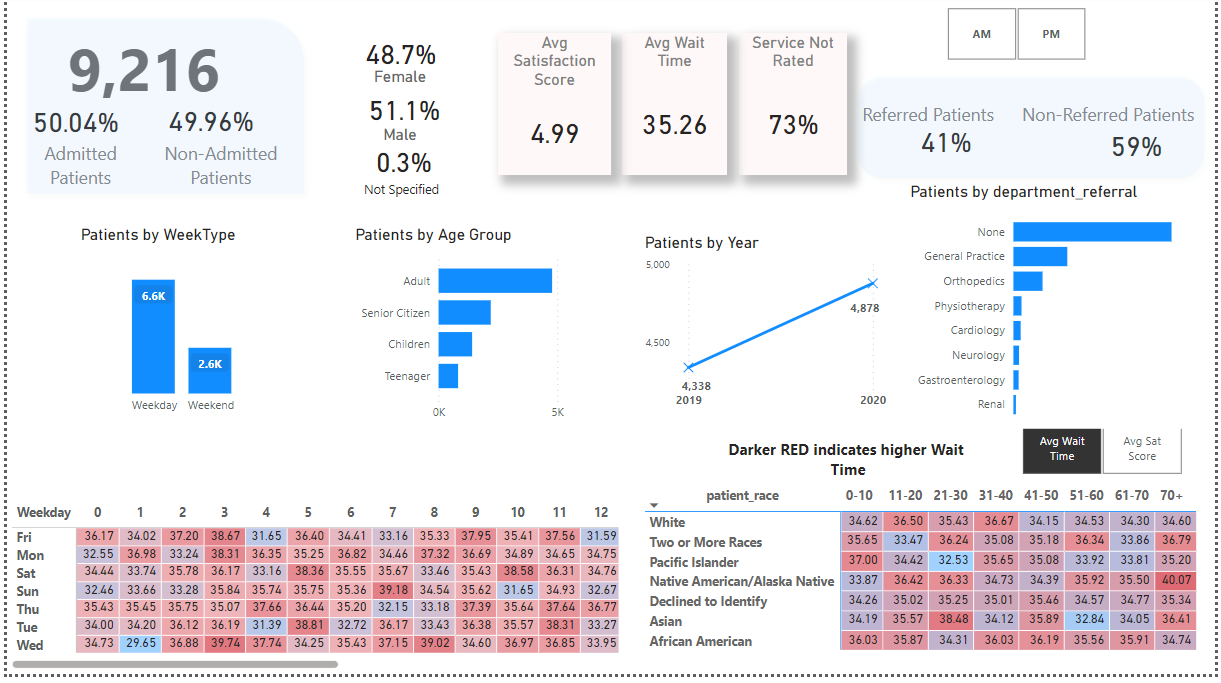

The page's visual inventory and layout, read from the dashboard file:
{"tool":"powerbi","page":{"name":"Page 1","canvas":[1280,720],"ordinal":0},"visuals":[{"type":"card","fields":{"Values":["Calculations.Total Patients"]},"box":[49.3,68.3,189.1,92.2],"z":0},{"type":"card","fields":{"Values":["Calculations.% Admitted Patients"]},"box":[0,141.5,144.6,60.4],"z":1000},{"type":"card","fields":{"Values":["Calculations.% Non Admitted Patients"]},"box":[160.5,146.2,120.8,46.1],"z":2000},{"type":"card","title":"Avg Satisfaction ","fields":{"Values":["Calculations.Average Sat Score"]},"box":[325.8,79.5,152.6,166.9],"z":3000},{"type":"card","title":"Service Not Rated","fields":{"Values":["Calculations.% Not Rated"]},"box":[645.3,79.5,136.7,168.5],"z":4000},{"type":"card","title":"Avg Wait Time","fields":{"Values":["Calculations.Average Wait Time"]},"box":[491.1,81.1,144.6,166.9],"z":5000},{"type":"pivotTable","fields":{"Values":["Calculations.Average Wait Time"],"Rows":["Hospital ER.patient_race"],"Columns":["Hospital ER.Age Buckets"]},"box":[670.7,515,608.7,198.7],"z":6000},{"type":"slicer","fields":{"Values":["Parameter.Parameter"]},"box":[1050.6,448.2,217.7,66.8],"z":7000},{"type":"clusteredBarChart","title":"Patients by Age Group","fields":{"Category":["Hospital ER.Age Group"],"Y":["Calculations.Total Patients"]},"box":[325.8,270.2,265.4,216.2],"z":8000},{"type":"lineChart","title":"Patients by Year","fields":{"Category":["Hospital ER.date.Variation.Date Hierarchy.Year"],"Y":["Calculations.Total Patients"]},"box":[635.8,279.7,265.4,195.5],"z":9000},{"type":"clusteredBarChart","title":"Patients by department_referral","fields":{"Category":["Hospital ER.department_referral"],"Y":["Calculations.Total Patients"]},"box":[967.9,155.8,300.4,270.2],"z":10000},{"type":"clusteredColumnChart","title":"Patients by WeekType","fields":{"Category":["Hospital ER.WeekType"],"Y":["Calculations.Total Patients"]},"box":[30.2,265.4,225.7,208.2],"z":11000},{"type":"card","fields":{"Values":["Calculations.% Non-Referred Patients"]},"box":[1149.1,96.4,77.9,39.7],"z":12000},{"type":"card","fields":{"Values":["Calculations.% Referred Patients"]},"box":[998.2,90,74.7,46.1],"z":13000},{"type":"pivotTable","title":"Busiest Hours","fields":{"Values":["Calculations.Average Wait Time"],"Rows":["Hospital ER.Weekday"],"Columns":["Hospital ER.Hour of the Day"]},"box":[0,515,653.2,205],"z":14000},{"type":"textbox","box":[155.8,186,141.5,60.4],"z":16000},{"type":"textbox","box":[1077.6,73.1,201.9,33.4],"z":17000},{"type":"textbox","box":[0,187.5,144.6,58.8],"z":18000},{"type":"textbox","box":[942.5,73.1,152.6,41.3],"z":19000},{"type":"slicer","fields":{"Values":["Hospital ER.AM/PM"]},"box":[901.2,448.2,168.5,73.1],"z":20000},{"type":"shape","box":[0,35,306.8,222.5],"z":21000},{"type":"shape","box":[928.2,133.5,321.1,292.5],"z":22000},{"type":"card","fields":{"Values":["Calculations.% Female Patients"]},"box":[807.4,82.6,98.5,41.3],"z":23000},{"type":"card","fields":{"Values":["Calculations.% Male Patients"]},"box":[807.4,138.3,103.3,38.1],"z":24000},{"type":"card","fields":{"Values":["Calculations.% Unknown Patients"]},"box":[807.4,189.1,104.9,38.1],"z":25000},{"type":"textbox","box":[804.2,163.7,104.9,31.8],"z":26000},{"type":"textbox","box":[807.4,114.4,108.1,28.6],"z":27000},{"type":"textbox","box":[809,216.2,104.9,31.8],"z":28000},{"type":"textbox","box":[65.2,49.3,155.8,36.6],"z":29000},{"type":"PBI_CV_25997FEB_F466_44FA_B562_AC4063283C4C","fields":{"measure":["Calculations.Average Sat Score"],"axis":["Hospital ER.date.Variation.Date Hierarchy.Month"]},"box":[322.6,165.3,158.9,81.1],"z":30000},{"type":"image","box":[535.6,101.7,52.5,62],"z":31000},{"type":"image","box":[375.1,103.3,54,54],"z":32000},{"type":"PBI_CV_25997FEB_F466_44FA_B562_AC4063283C4C","fields":{"measure":["Calculations.Average Wait Time"],"axis":["Hospital ER.date.Variation.Date Hierarchy.Month"]},"box":[476.8,168.5,171.7,79.5],"z":33000},{"type":"image","box":[686.6,124,55.6,42.9],"z":34000},{"type":"PBI_CV_25997FEB_F466_44FA_B562_AC4063283C4C","fields":{"measure":["Calculations.% Not Rated"],"axis":["Hospital ER.date.Variation.Date Hierarchy.Month"]},"box":[645.3,186,135.1,66.8],"z":34001},{"type":"shape","box":[791.5,79.5,136.7,168.5],"z":34002},{"type":"textbox","box":[408.5,0,534,68.3],"z":34003},{"type":"image","box":[354.4,0,76.3,68.3],"z":34004},{"type":"shape","box":[602.4,254.3,303.6,244.8],"z":34005},{"type":"shape","box":[298.8,257.5,303.6,241.6],"z":34006},{"type":"shape","box":[0,252.7,303.6,241.6],"z":34007},{"type":"shape","box":[948.9,49.3,319.5,81.1],"z":34008}]}

Visuals, with their boxes in screenshot pixels (x1, y1, x2, y2), scaled from the page's 1280x720 canvas onto the 1221x683 screenshot:
card - Calculations.Total Patients: bbox=(47, 65, 227, 152)
card - Calculations.% Admitted Patients: bbox=(0, 134, 138, 192)
card - Calculations.% Non Admitted Patients: bbox=(153, 139, 268, 182)
"Avg Satisfaction " card: bbox=(311, 75, 456, 234)
"Service Not Rated" card: bbox=(616, 75, 746, 235)
"Avg Wait Time" card: bbox=(468, 77, 606, 235)
pivotTable - Calculations.Average Wait Time x Hospital ER.patient_race: bbox=(640, 489, 1220, 677)
slicer - Parameter.Parameter: bbox=(1002, 425, 1210, 489)
"Patients by Age Group" clusteredBarChart: bbox=(311, 256, 564, 461)
"Patients by Year" lineChart: bbox=(606, 265, 860, 451)
"Patients by department_referral" clusteredBarChart: bbox=(923, 148, 1210, 404)
"Patients by WeekType" clusteredColumnChart: bbox=(29, 252, 244, 449)
card - Calculations.% Non-Referred Patients: bbox=(1096, 91, 1170, 129)
card - Calculations.% Referred Patients: bbox=(952, 85, 1023, 129)
"Busiest Hours" pivotTable: bbox=(0, 489, 623, 682)
textbox: bbox=(149, 176, 284, 234)
textbox: bbox=(1028, 69, 1220, 101)
textbox: bbox=(0, 178, 138, 234)
textbox: bbox=(899, 69, 1045, 109)
slicer - Hospital ER.AM/PM: bbox=(860, 425, 1020, 495)
shape: bbox=(0, 33, 293, 244)
shape: bbox=(885, 127, 1192, 404)
card - Calculations.% Female Patients: bbox=(770, 78, 864, 118)
card - Calculations.% Male Patients: bbox=(770, 131, 869, 167)
card - Calculations.% Unknown Patients: bbox=(770, 179, 870, 216)
textbox: bbox=(767, 155, 867, 185)
textbox: bbox=(770, 109, 873, 136)
textbox: bbox=(772, 205, 872, 235)
textbox: bbox=(62, 47, 211, 81)
PBI_CV_25997FEB_F466_44FA_B562_AC4063283C4C - Calculations.Average Sat Score x Hospital ER.date.Variation.Date Hierarchy.Month: bbox=(308, 157, 459, 234)
image: bbox=(511, 96, 561, 155)
image: bbox=(358, 98, 409, 149)
PBI_CV_25997FEB_F466_44FA_B562_AC4063283C4C - Calculations.Average Wait Time x Hospital ER.date.Variation.Date Hierarchy.Month: bbox=(455, 160, 619, 235)
image: bbox=(655, 118, 708, 158)
PBI_CV_25997FEB_F466_44FA_B562_AC4063283C4C - Calculations.% Not Rated x Hospital ER.date.Variation.Date Hierarchy.Month: bbox=(616, 176, 744, 240)
shape: bbox=(755, 75, 885, 235)
textbox: bbox=(390, 0, 899, 65)
image: bbox=(338, 0, 411, 65)
shape: bbox=(575, 241, 864, 473)
shape: bbox=(285, 244, 575, 473)
shape: bbox=(0, 240, 290, 469)
shape: bbox=(905, 47, 1210, 124)
